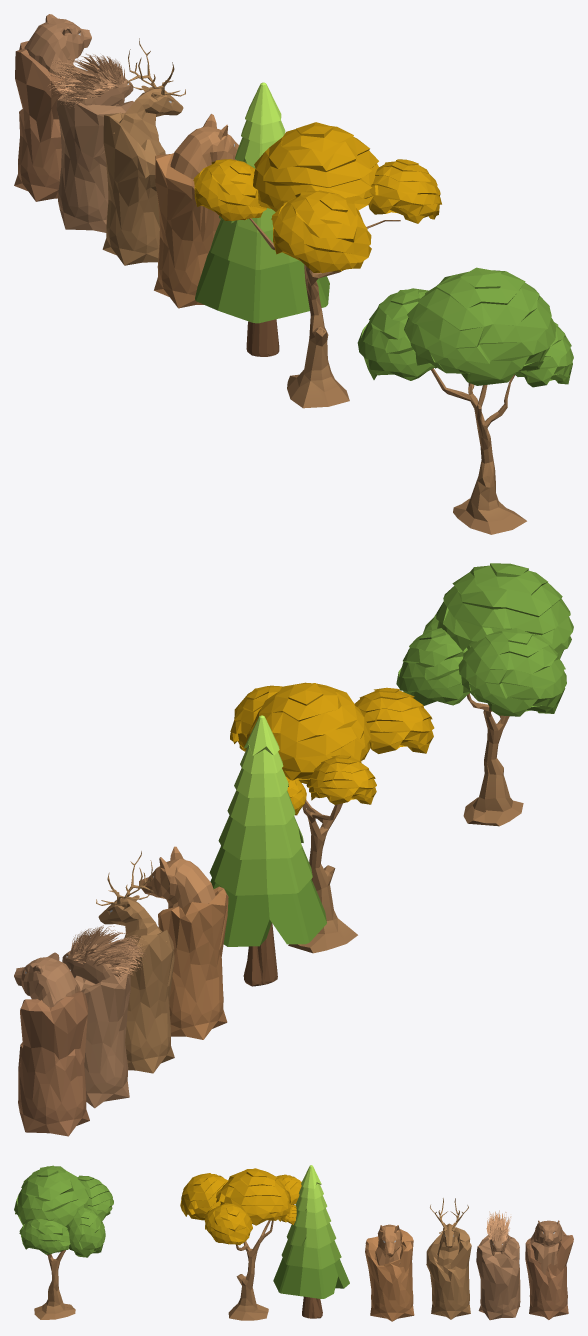
3 views of the same model, one above another, from view 1: azimuth 30°, elevation 25°; view 2: azimuth 150°, elevation 25°; view 3: azimuth 270°, elevation 25° (orthographic). The views are drawn at different scales.
Parts seen in each view (by area): view 1: Cube.005, Cube.004, Cylinder, Icosphere.006, Icosphere.008, Icosphere.007, Icosphere.005; view 2: Cube.004, Cube.005, Cylinder, Icosphere.005, Icosphere.007, Icosphere.008, Icosphere.006; view 3: Cube.004, Cube.005, Cylinder, Icosphere.007, Icosphere.008, Icosphere.005, Icosphere.006.
Boxes of the visible parts, bbox=[...] form: Cube.005: bbox=[193, 122, 441, 408]; Cube.004: bbox=[357, 267, 573, 534]; Cylinder: bbox=[195, 82, 329, 356]; Icosphere.006: bbox=[102, 38, 185, 265]; Icosphere.008: bbox=[48, 53, 133, 232]; Icosphere.007: bbox=[154, 114, 238, 308]; Icosphere.005: bbox=[14, 14, 91, 201]; Cube.004: bbox=[396, 563, 573, 826]; Cube.005: bbox=[230, 682, 434, 953]; Cylinder: bbox=[209, 715, 326, 986]; Icosphere.005: bbox=[14, 952, 89, 1136]; Icosphere.007: bbox=[139, 846, 228, 1039]; Icosphere.008: bbox=[62, 925, 146, 1108]; Icosphere.006: bbox=[96, 851, 174, 1073]; Cube.004: bbox=[14, 1165, 113, 1319]; Cube.005: bbox=[180, 1168, 301, 1320]; Cylinder: bbox=[273, 1165, 349, 1318]; Icosphere.007: bbox=[365, 1224, 414, 1321]; Icosphere.008: bbox=[476, 1210, 520, 1320]; Icosphere.005: bbox=[525, 1220, 573, 1319]; Icosphere.006: bbox=[426, 1198, 471, 1319].
Size of the model in its own units: 17.32 by 13.41 by 57.53.
2 materials, 1 textured.
